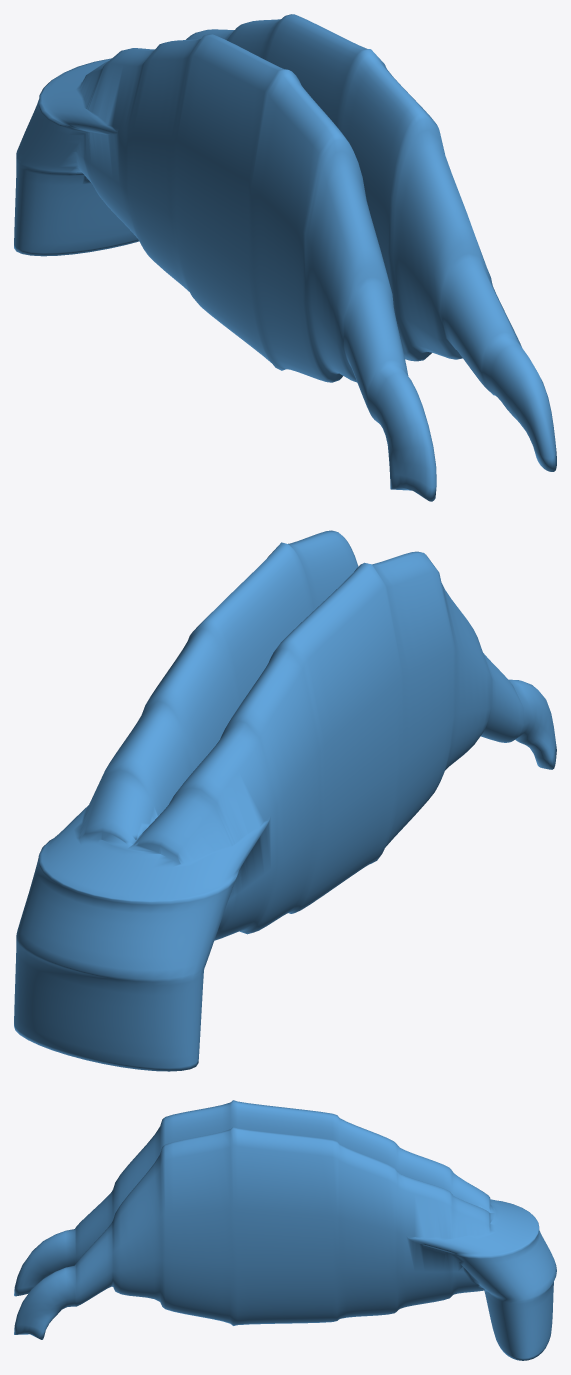
File: nasal-airspace.analysis.glb
The picture shows the model from 3 angles, top to bottom: view 1: azimuth 30°, elevation 25°; view 2: azimuth 150°, elevation 25°; view 3: azimuth 270°, elevation 25°; orthographic projection. The views are drawn at different scales.
Parts seen in each view (by area): view 1: NASAL_AIR_NEGATIVE; view 2: NASAL_AIR_NEGATIVE; view 3: NASAL_AIR_NEGATIVE.
Boxes of the visible parts, x1,y1,x2,y2 form: NASAL_AIR_NEGATIVE: (14,14,556,501); NASAL_AIR_NEGATIVE: (14,530,556,1071); NASAL_AIR_NEGATIVE: (14,1100,556,1360).
Bounding box in the file's own units: 0.025 × 0.0439 × 0.0993.
